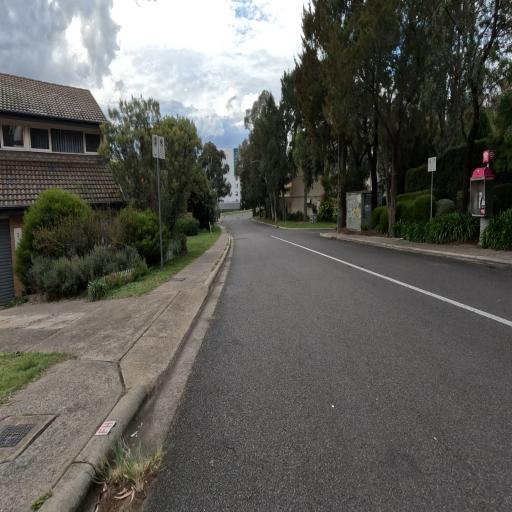kerb_cut: (117, 291, 221, 410)
